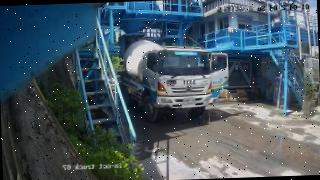cement_mixer_truck: (117, 39, 228, 121)
